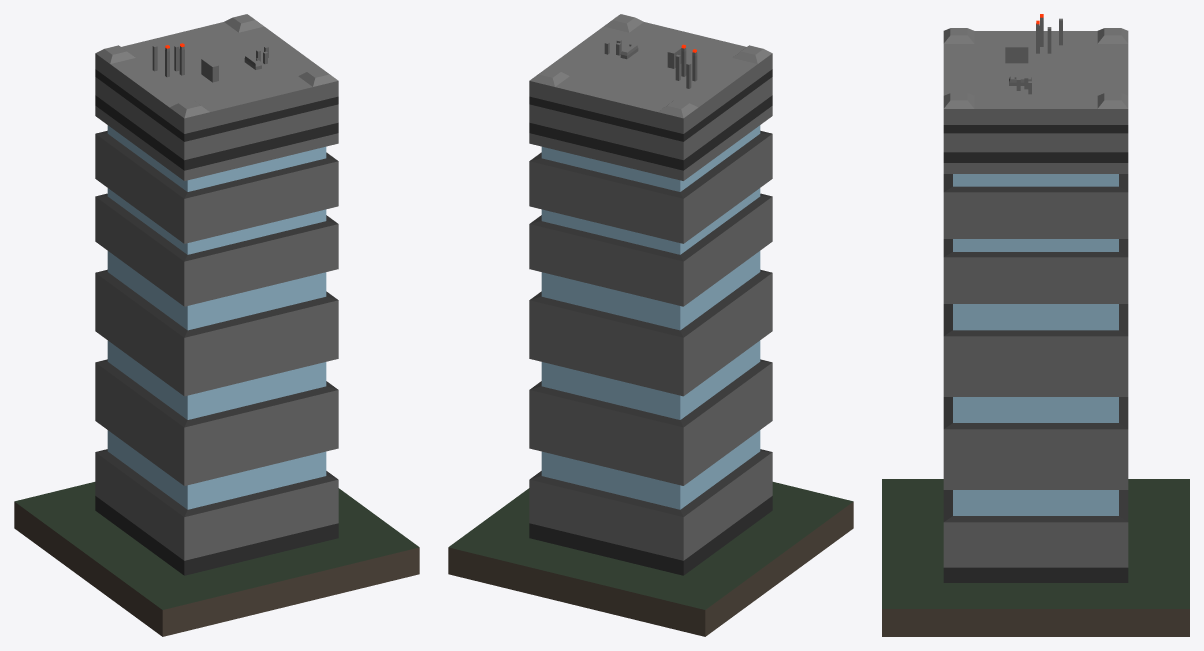
File: office-1.glb
The picture shows the model from 3 angles, left to right: view 1: azimuth 30°, elevation 25°; view 2: azimuth 150°, elevation 25°; view 3: azimuth 270°, elevation 25°; orthographic projection. The views are drawn at different scales.
Visible parts, largest first — view 1: Highrise::New; view 2: Highrise::New; view 3: Highrise::New.
Part boxes in pixels (left/top/right/bottom): Highrise::New: left=14, top=14, right=419, bottom=636; Highrise::New: left=448, top=14, right=853, bottom=636; Highrise::New: left=882, top=14, right=1189, bottom=636.
Size of the model in its own units: 1 by 1.91 by 1.
